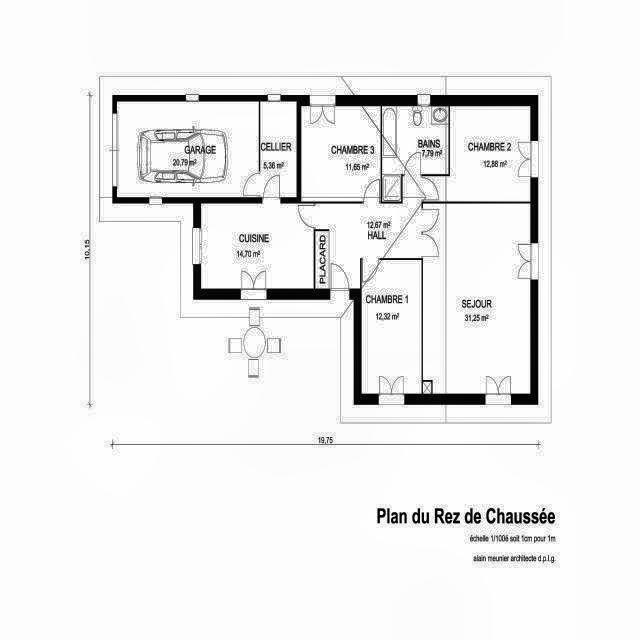room: (423, 203, 530, 394), (117, 101, 259, 197), (315, 176, 422, 289), (423, 106, 530, 202), (201, 204, 314, 288), (362, 260, 422, 393), (302, 106, 380, 201), (382, 106, 449, 174), (260, 101, 296, 197)
